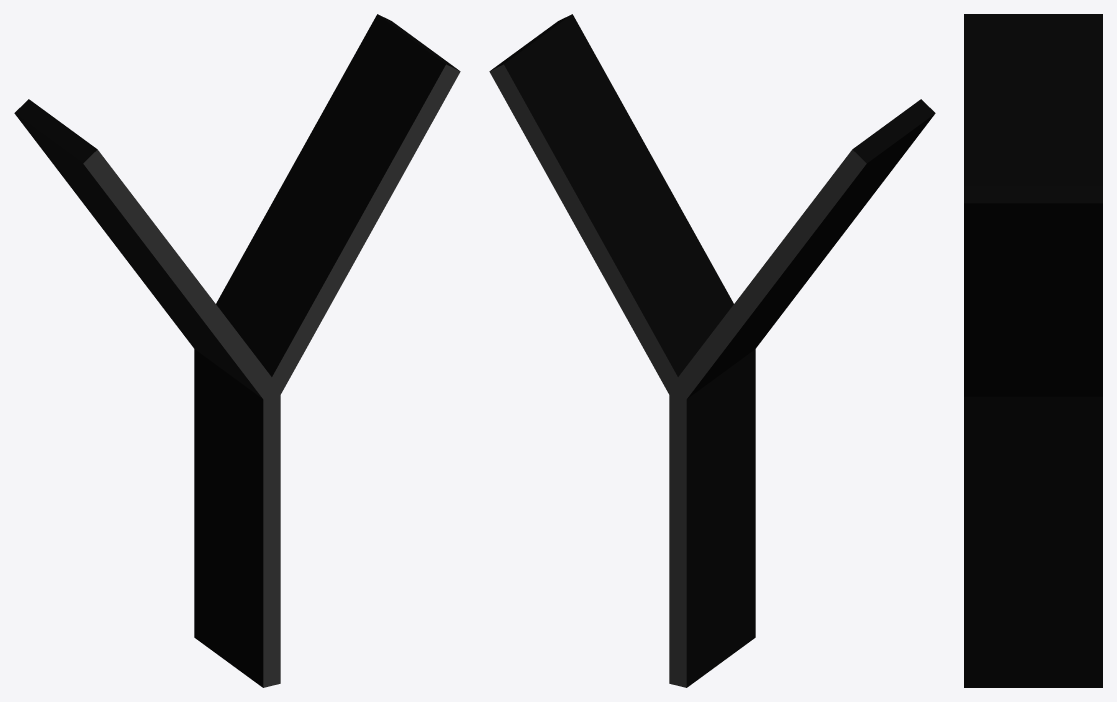
The model's file is 156fd935-f2dc-4dfe-9441-40b96d688195.glb.
3 renders of one model, left to right at view 1: azimuth 30°, elevation 25°; view 2: azimuth 150°, elevation 25°; view 3: azimuth 270°, elevation 25°, orthographic.
Visible parts, largest first — view 1: y_AlphaProta_Black; view 2: y_AlphaProta_Black; view 3: y_AlphaProta_Black.
Boxes of the visible parts, bbox=[...] form: y_AlphaProta_Black: bbox=[14, 14, 460, 687]; y_AlphaProta_Black: bbox=[489, 14, 935, 687]; y_AlphaProta_Black: bbox=[964, 14, 1102, 687].
Size of what is drawn, in the model's own units: 0.1425 by 0.2089 by 0.045.
2 materials, 2 textured.
